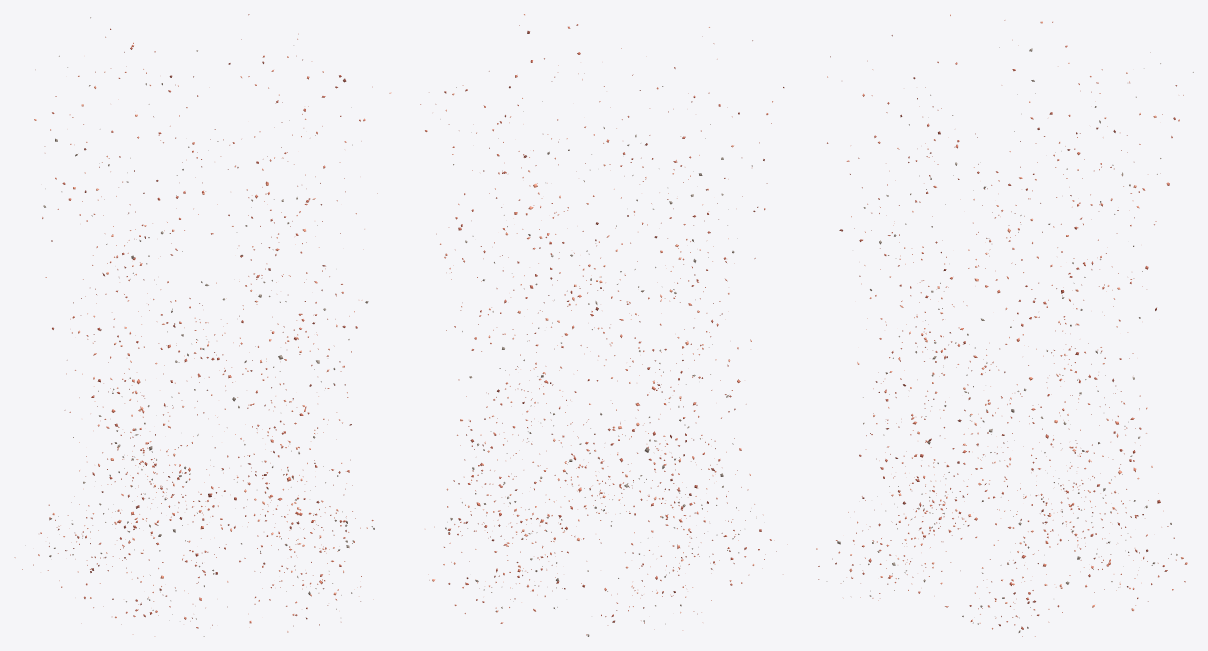
File: devil_grit_low.glb
3 views of the same model, side by side, from view 1: azimuth 30°, elevation 25°; view 2: azimuth 150°, elevation 25°; view 3: azimuth 270°, elevation 25° (orthographic).
Parts seen in each view (by area): view 1: devil_grit_low; view 2: devil_grit_low; view 3: devil_grit_low.
Part boxes in pixels (x1,y1,x2,y2): devil_grit_low: (14,14,391,636); devil_grit_low: (420,14,787,636); devil_grit_low: (816,14,1193,636).
Size of the model in its own units: 9.65 by 14.11 by 10.04.
1 material, 1 textured.
